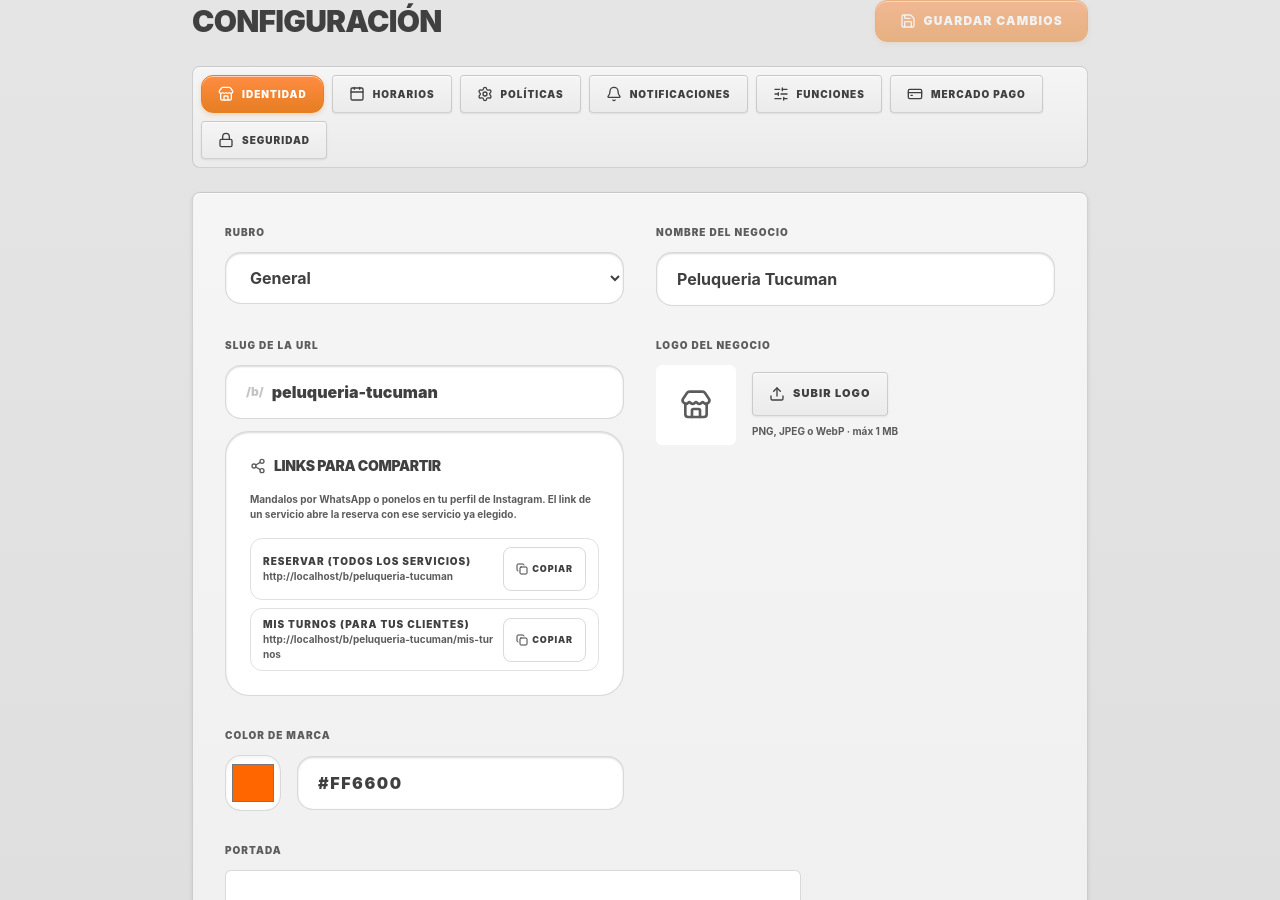
Test case: Settings - estado accesible de pestanas › expone la pestana activa como pulsada y conserva los botones nativos
Click the button "Horarios". click: [392, 94]
box: [332, 75, 452, 113]
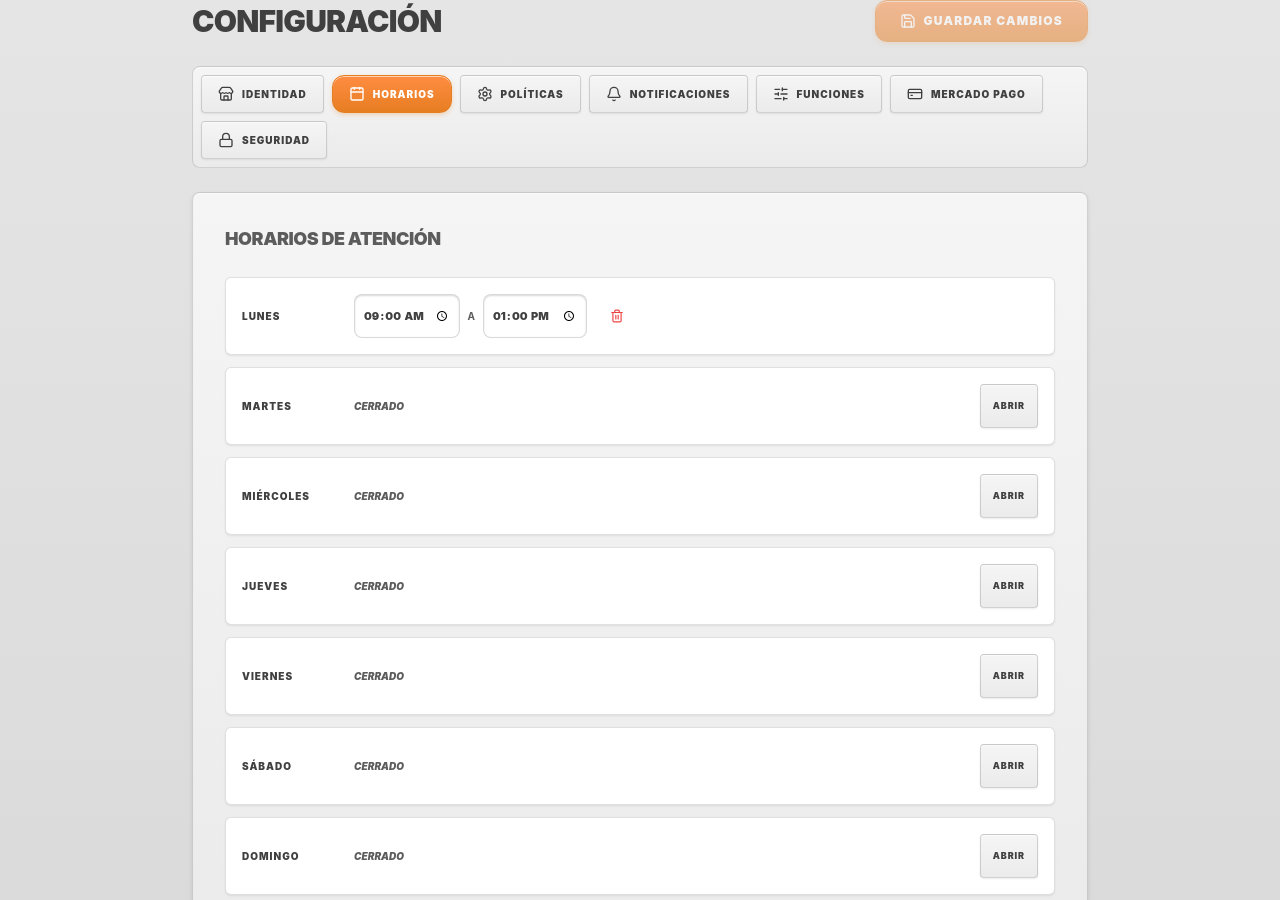
Expected: the heading "Horarios de Atención" is shown, [225, 228, 441, 249]
